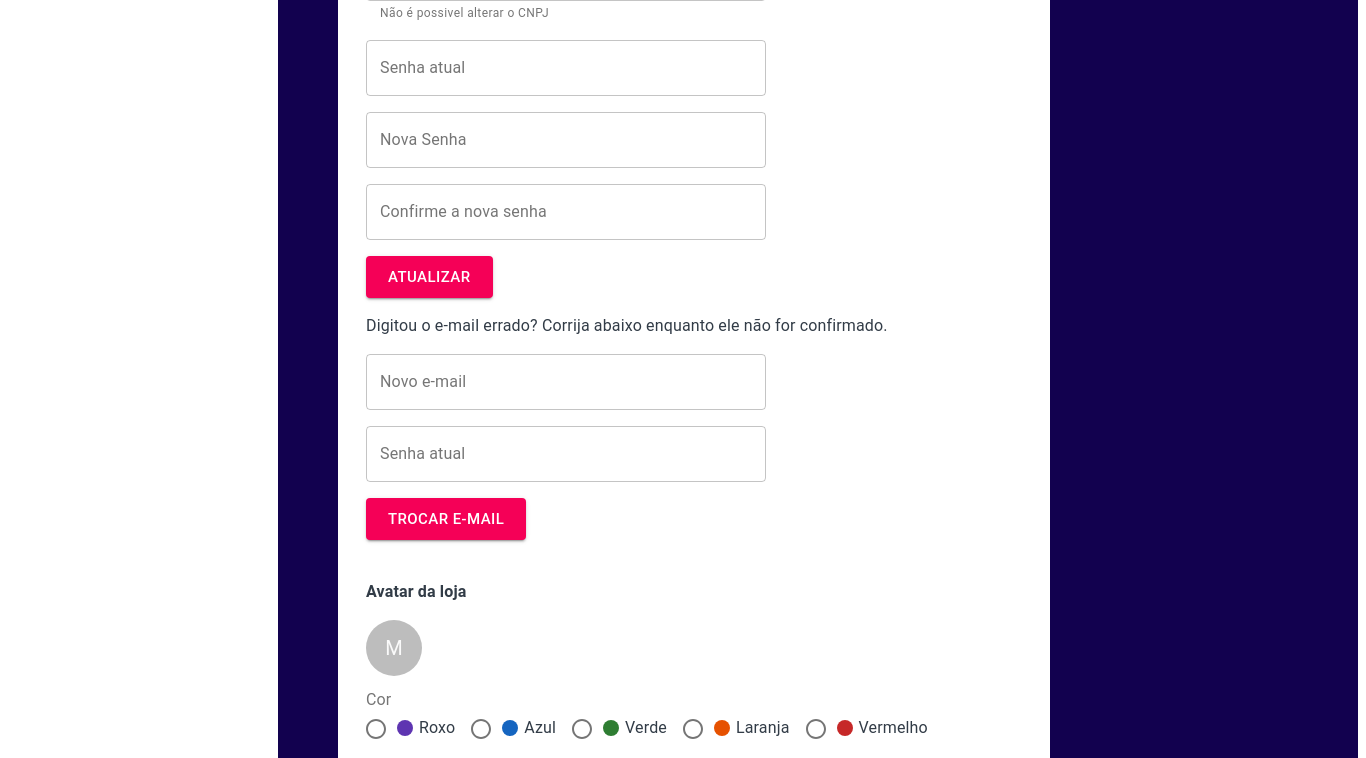
Test case: E-mail da conta no Perfil › senha errada (422): mostra a mensagem e esvazia só a senha
(page scrolled)
Type "certo@modaazul.com" into the field labelled "Novo e-mail". click: (566, 382)
box: [366, 354, 766, 410]
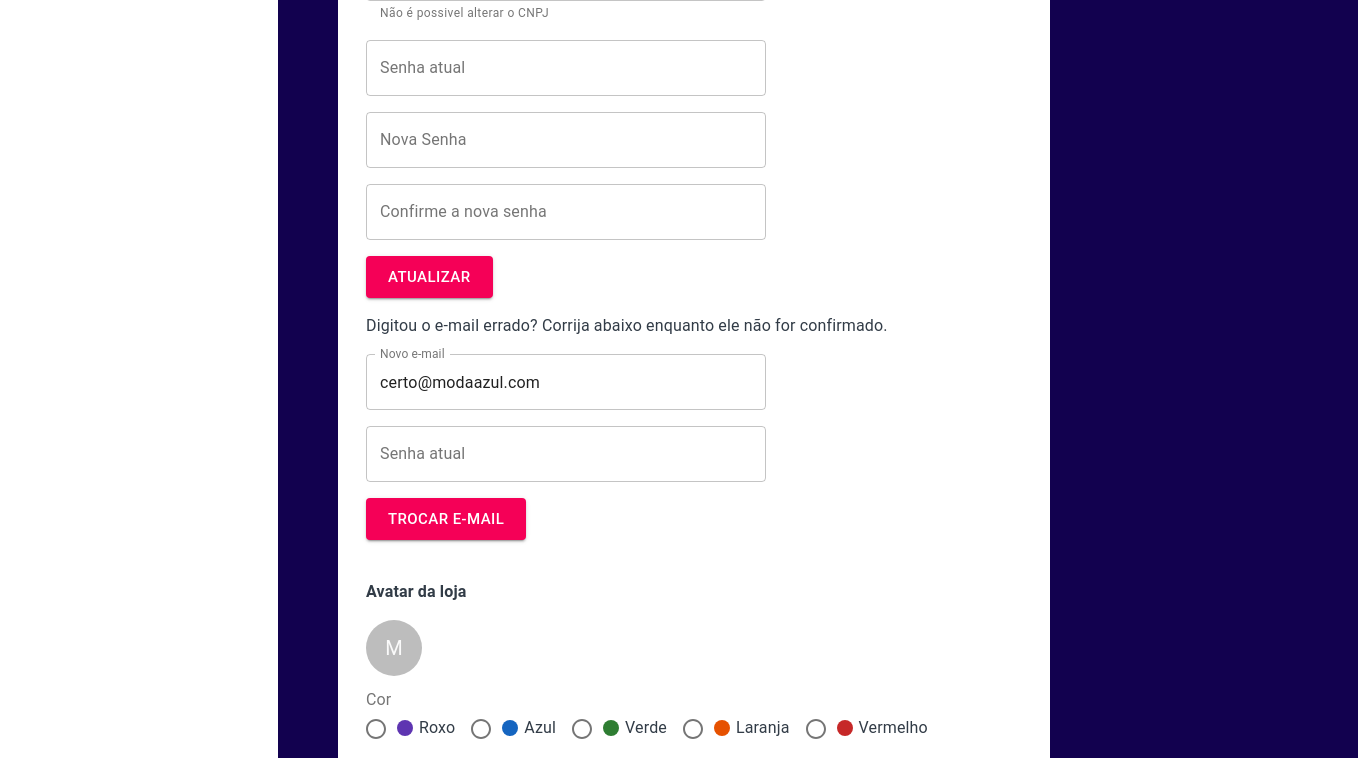
Type "errada-errada" into the password field labelled "Senha atual" below "Novo e-mail". click: (566, 454)
box: [366, 426, 766, 482]
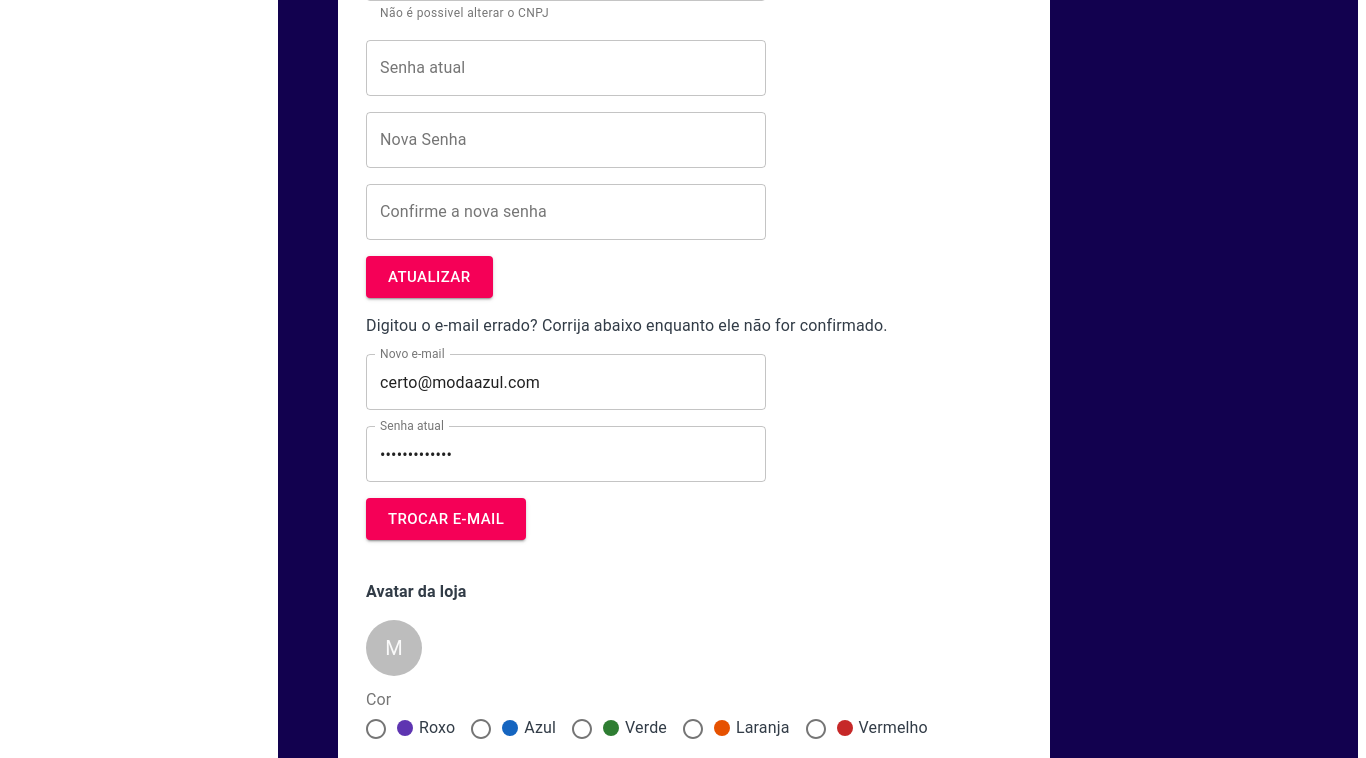
Submit the form named "Trocar e-mail", box [366, 316, 888, 540]
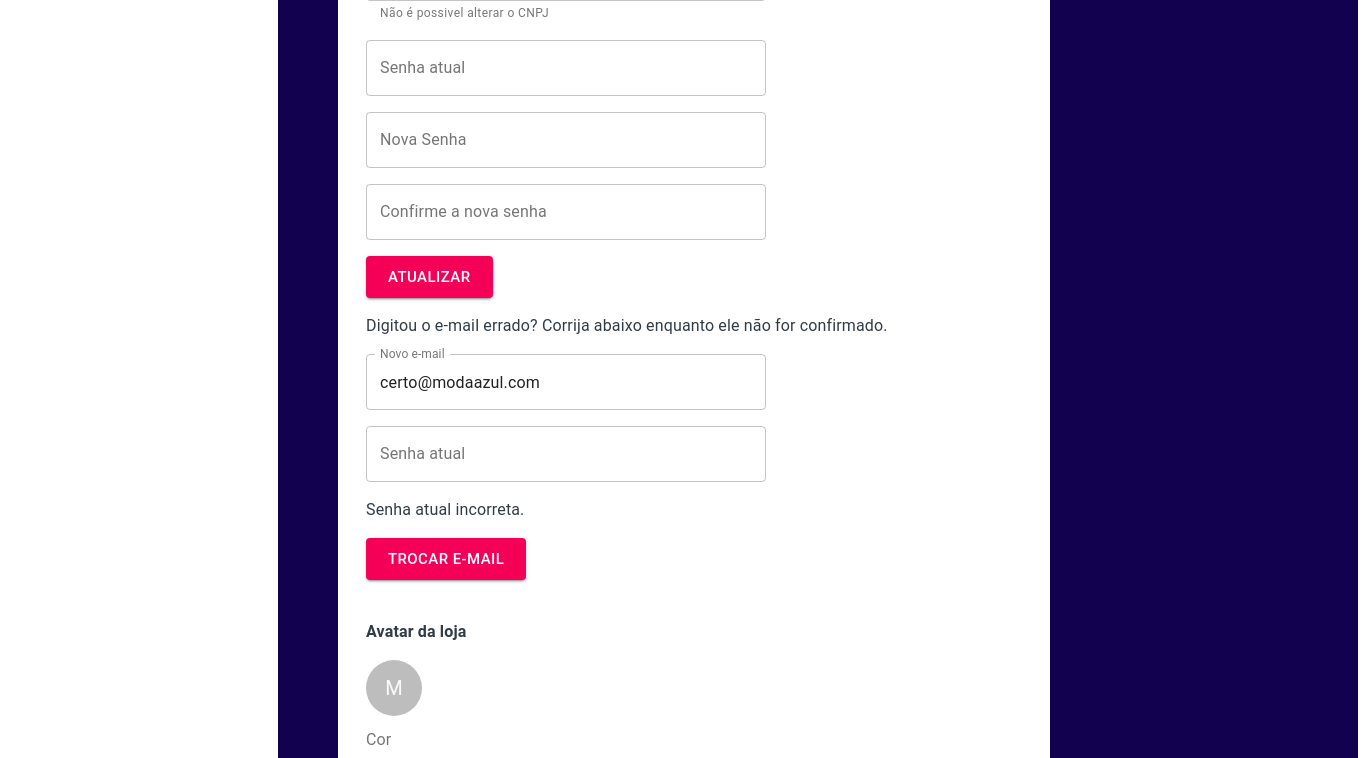
Result: the text "Senha atual incorreta." is shown at [366, 500, 524, 519]
Result: the password field labelled "Senha atual" below "Novo e-mail" is empty at [366, 426, 766, 482]
